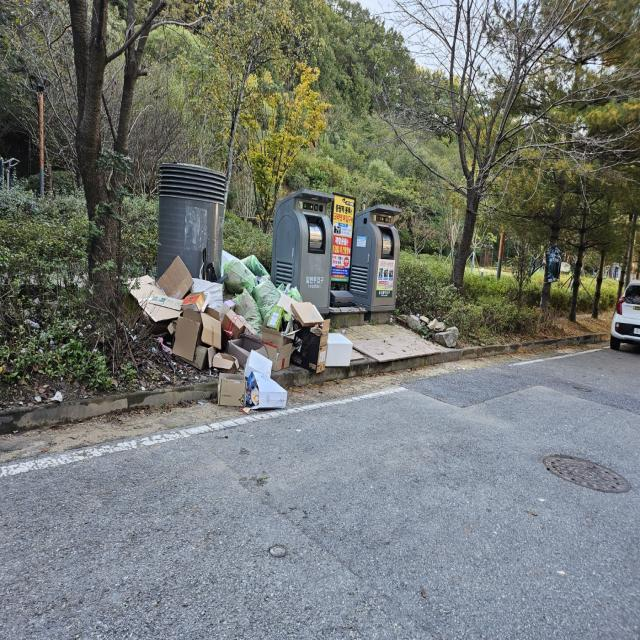CleanNet: (268, 176, 338, 319), (350, 200, 403, 318)
General Waste: (131, 263, 186, 325), (172, 311, 227, 373), (214, 372, 288, 414), (231, 333, 304, 372), (218, 245, 265, 288), (196, 271, 232, 324), (274, 283, 312, 330), (252, 270, 284, 324)
